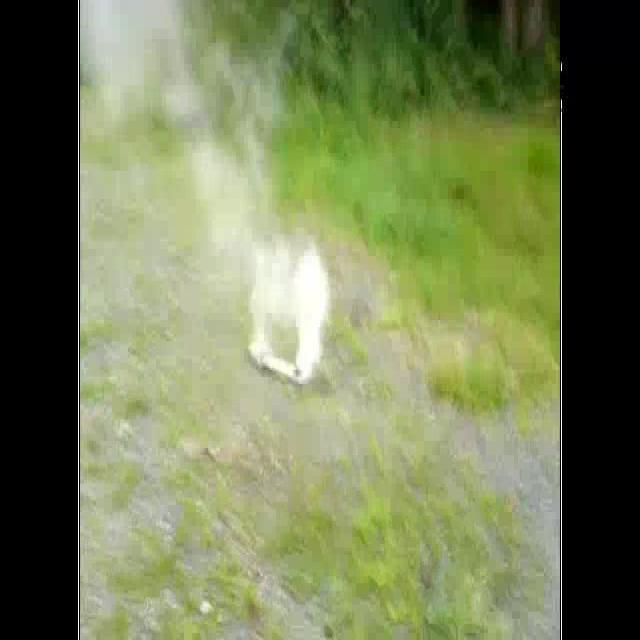Smoke: (80, 0, 332, 386)
